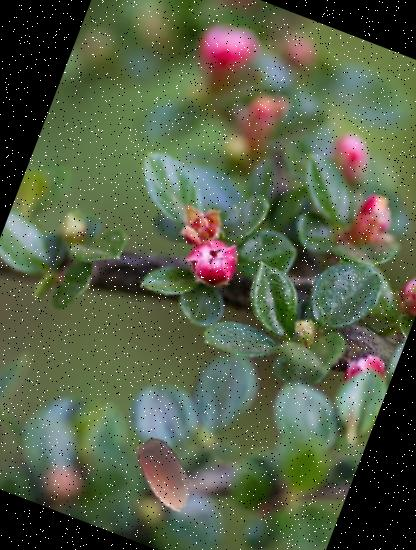Hazelnut: (115, 424, 217, 526)
